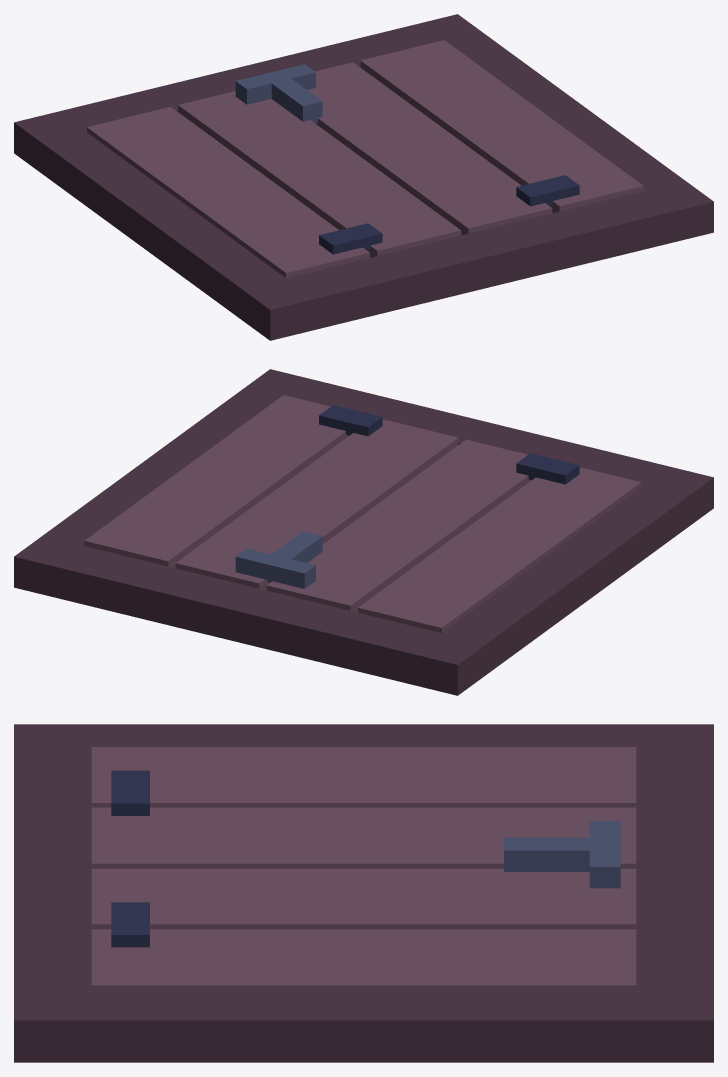
File: Mine_Trapdoor_Closed.obj
3 renders of one model, top to bottom at view 1: azimuth 30°, elevation 25°; view 2: azimuth 150°, elevation 25°; view 3: azimuth 270°, elevation 25°, orthographic. The views are drawn at different scales.
Visible parts, largest first — view 1: Mine_Trapdoor_Closed; view 2: Mine_Trapdoor_Closed; view 3: Mine_Trapdoor_Closed.
Boxes of the visible parts, x1,y1,x2,y2 form: Mine_Trapdoor_Closed: (14,14,713,340); Mine_Trapdoor_Closed: (14,369,713,695); Mine_Trapdoor_Closed: (14,724,713,1062).
Size of the model in its own units: 1.8 by 0.2 by 1.8.
